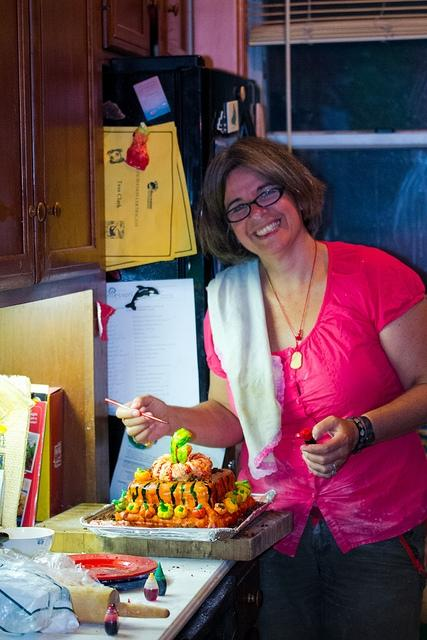pumpkin: (151, 428, 213, 482), (157, 502, 174, 520), (224, 490, 243, 506), (222, 498, 239, 514), (112, 497, 129, 513), (140, 502, 156, 518), (134, 468, 150, 482), (192, 504, 206, 519), (174, 504, 188, 518), (126, 502, 140, 514), (214, 503, 228, 515), (236, 489, 248, 502), (235, 482, 245, 488)
